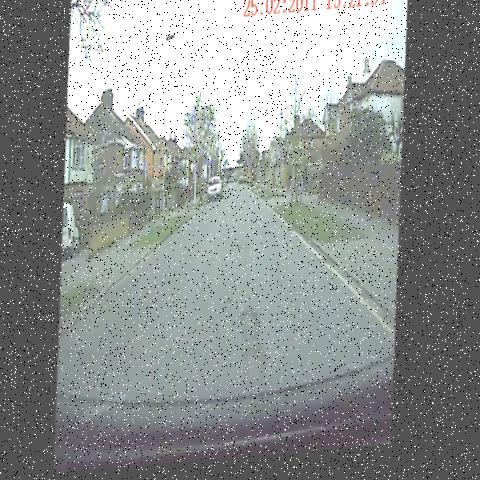pothole: (227, 298, 275, 397), (230, 235, 249, 272), (265, 220, 280, 254), (285, 225, 301, 246)
